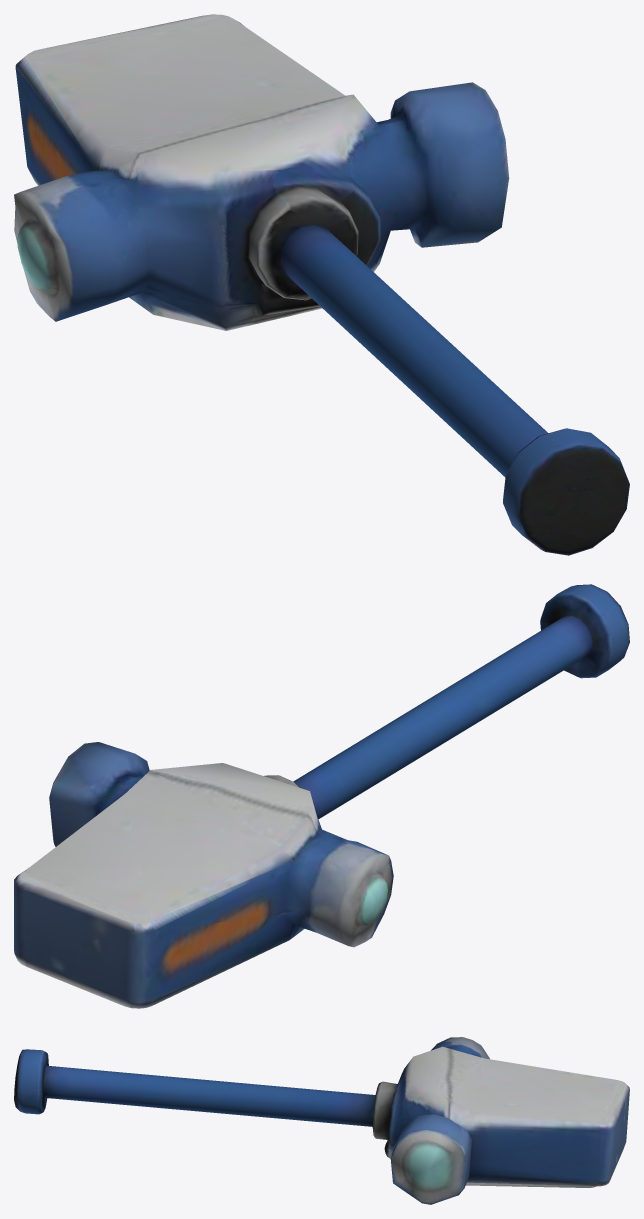
File: s_warhammer.fbx
3 renders of one model, top to bottom at view 1: azimuth 30°, elevation 25°; view 2: azimuth 150°, elevation 25°; view 3: azimuth 270°, elevation 25°, orthographic. The views are drawn at different scales.
Parts seen in each view (by area): view 1: tripo_node_95f56484-cbf3-4c27-9882-b3627be247ca; view 2: tripo_node_95f56484-cbf3-4c27-9882-b3627be247ca; view 3: tripo_node_95f56484-cbf3-4c27-9882-b3627be247ca.
Boxes of the visible parts, x1,y1,x2,y2 form: tripo_node_95f56484-cbf3-4c27-9882-b3627be247ca: [14, 14, 629, 555]; tripo_node_95f56484-cbf3-4c27-9882-b3627be247ca: [14, 584, 629, 1008]; tripo_node_95f56484-cbf3-4c27-9882-b3627be247ca: [14, 1037, 629, 1204].
Size of the model in its own units: 0.6407 by 0.2495 by 1.5.
1 material, 1 textured.
